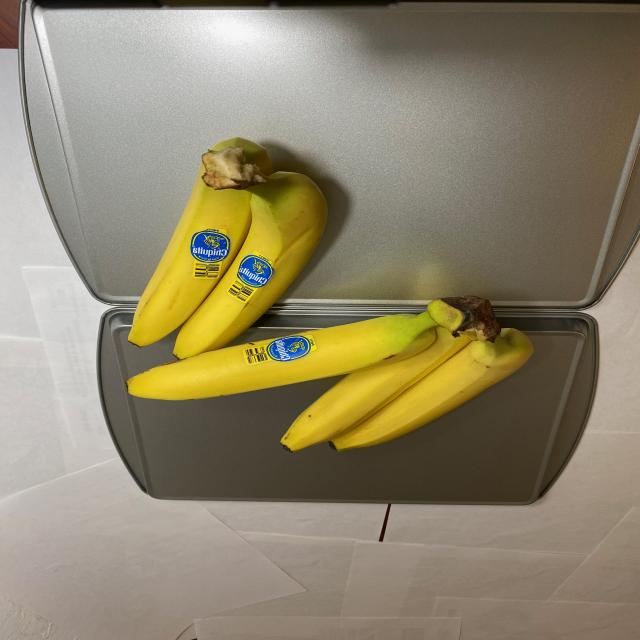Banana: (121, 138, 537, 455)
